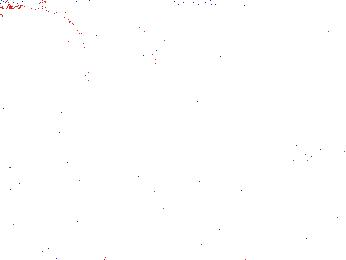moon jellyfish: (142, 3, 244, 80), (1, 7, 89, 86), (65, 10, 152, 76), (263, 16, 346, 77)
